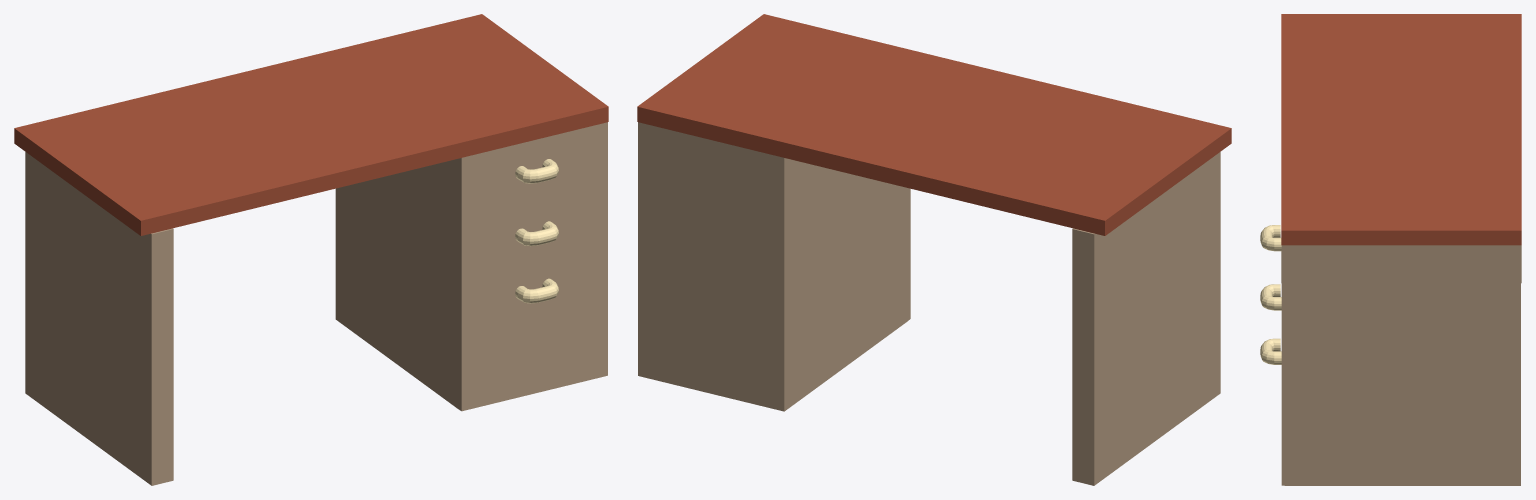
The model's file is Desk.fbx.
3 renders of one model, left to right at view 1: azimuth 30°, elevation 25°; view 2: azimuth 150°, elevation 25°; view 3: azimuth 270°, elevation 25°, orthographic. The views are drawn at different scales.
Parts seen in each view (by area): view 1: Obj_Desk; view 2: Obj_Desk; view 3: Obj_Desk.
Part boxes in pixels (x1,y1,x2,y2): Obj_Desk: (14,14,608,485); Obj_Desk: (637,14,1231,485); Obj_Desk: (1260,14,1521,485).
Bounding box in the file's own units: 279 × 153 × 142.
Materials: 1 (1 with a texture image).
